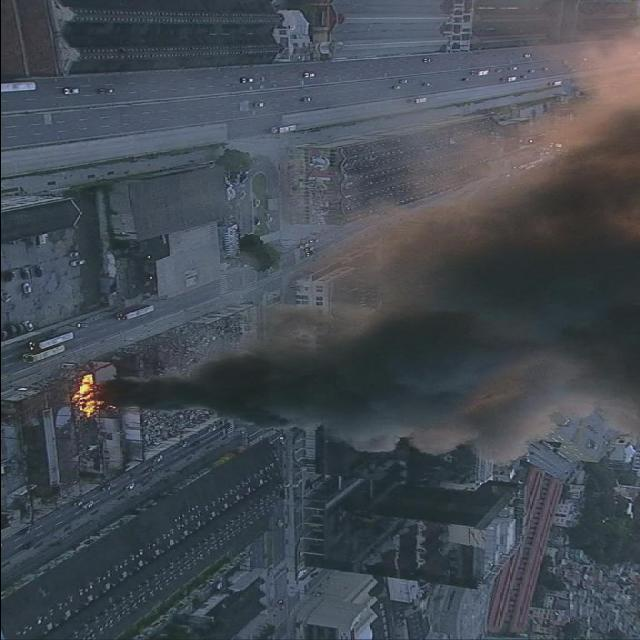Fire: (68, 375, 104, 418)
